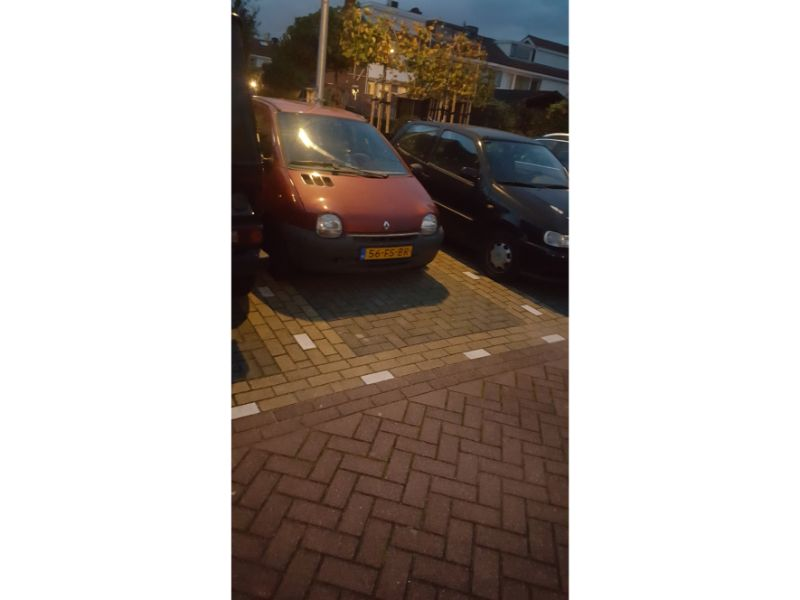kenteken: (363, 247, 413, 259)
